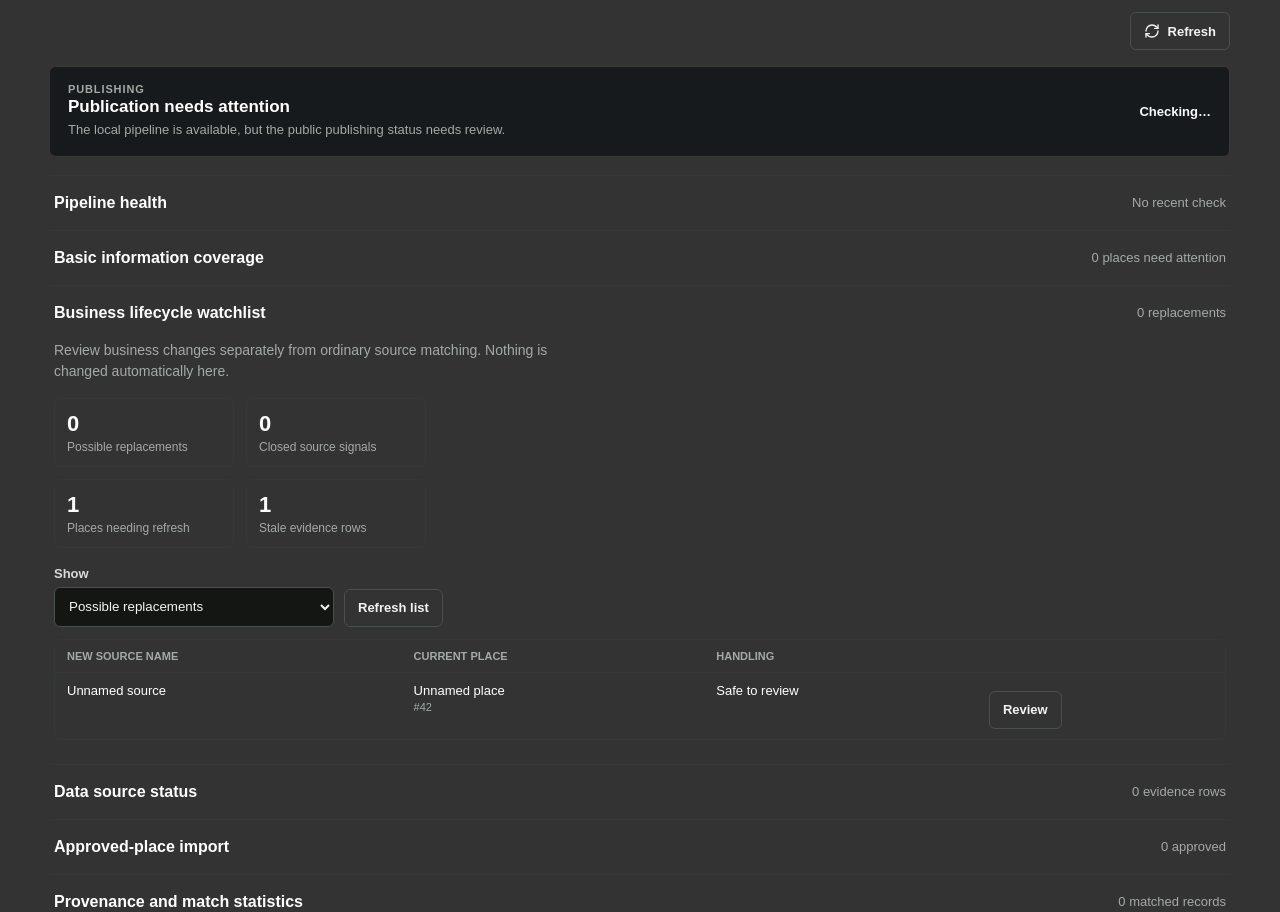
Scenario: AdminSystemPanel lifecycle actions › shows closed source signals as a review-only lifecycle category
Select "Closed source signals" in the dropdown at (194, 607), box left=54, top=587, right=334, bottom=627
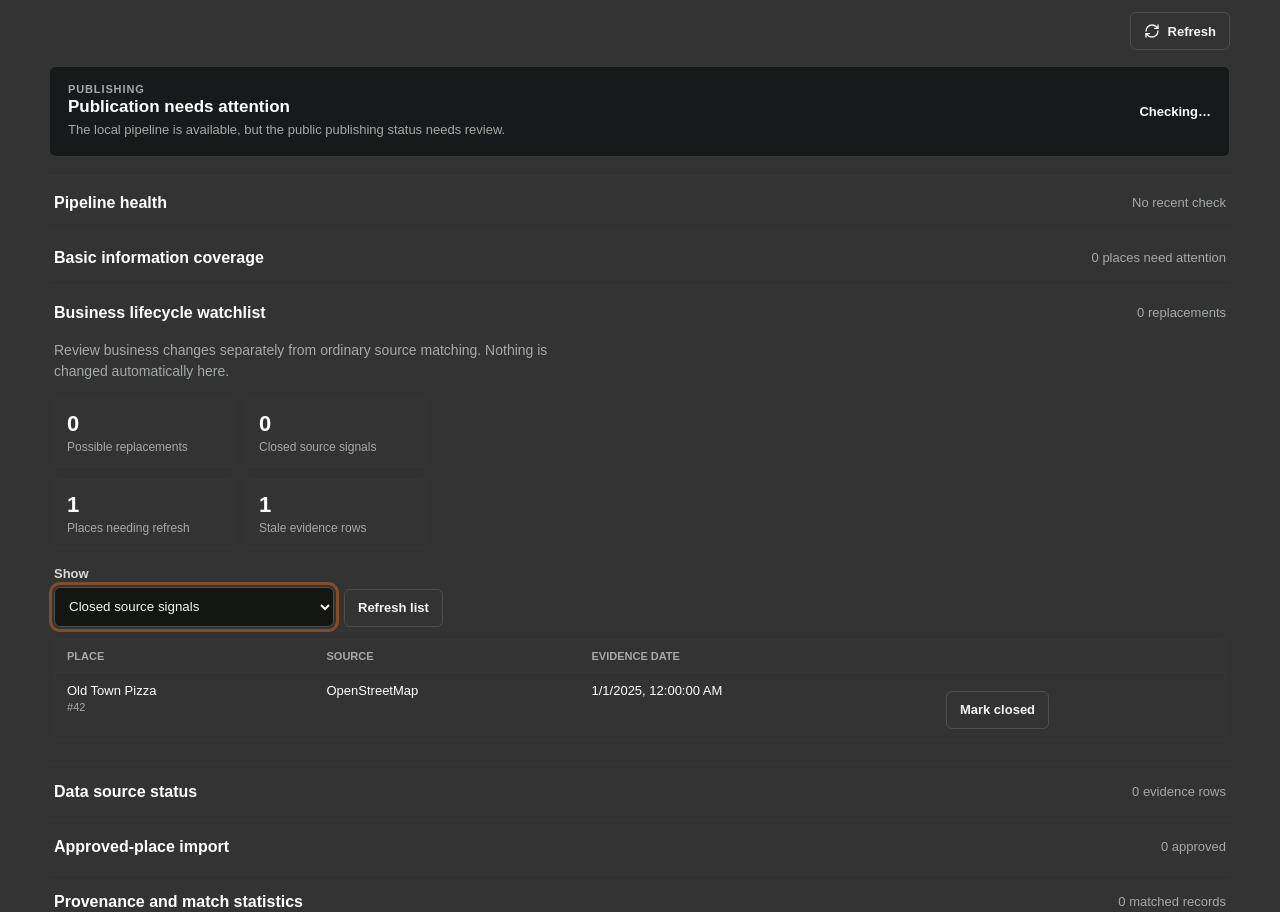
Now the button "Mark closed" is shown, box left=946, top=691, right=1049, bottom=729
Now the text "Old Town Pizza" is shown, box left=67, top=683, right=156, bottom=698
